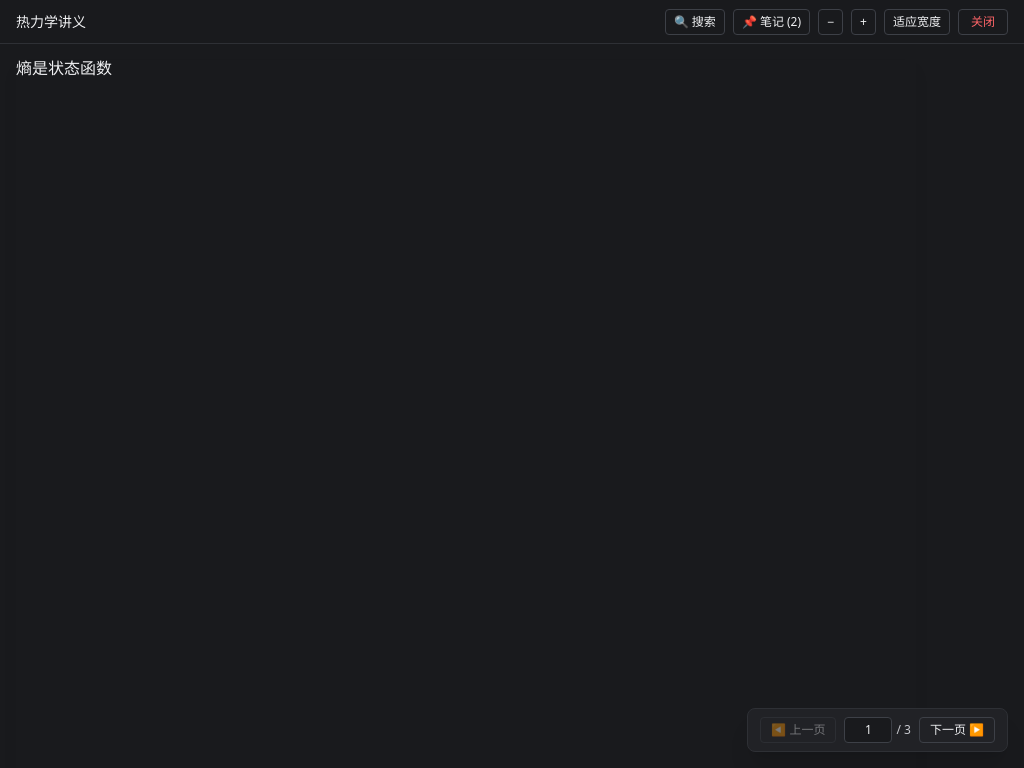
it: PdfReaderView — notes and selection › renders underline and highlight badges in the notes panel
Click the button titled "阅读批注（选中文本后可用高亮 / 笔记）" at (771, 22), box 733,8 -> 810,34
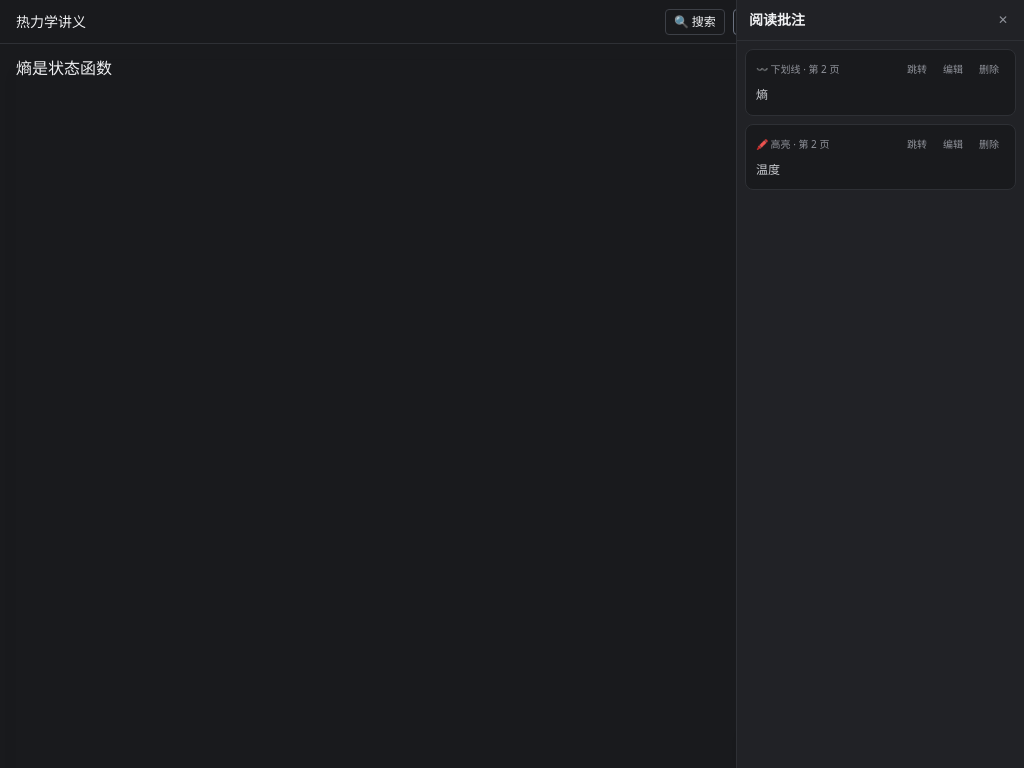
Result: the text "〰️ 下划线 · 第 2 页" is shown at 756,62 -> 839,77
Result: the text "🖍️ 高亮 · 第 2 页" is shown at 756,136 -> 829,152
